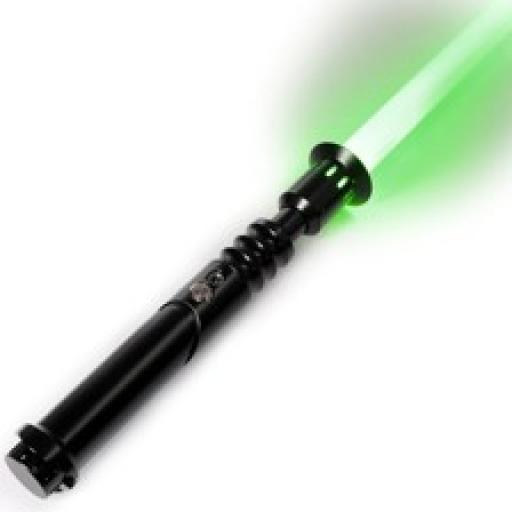lightsaber: (9, 0, 512, 499)
